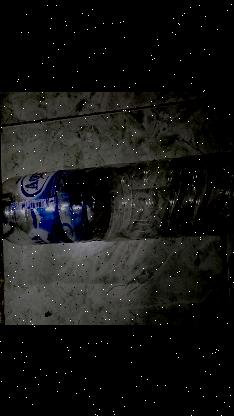Plastic Bottle: (0, 147, 234, 245)
